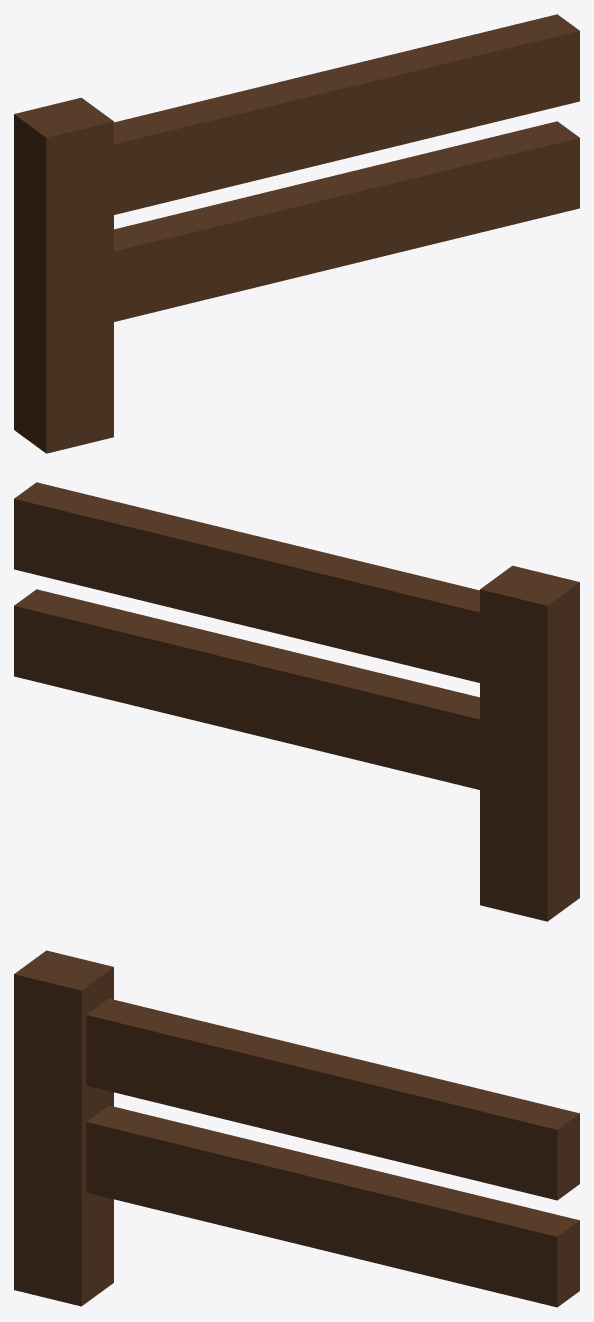
File: fenceRight.fbx
3 views of the same model, one above another, from view 1: azimuth 30°, elevation 25°; view 2: azimuth 150°, elevation 25°; view 3: azimuth 330°, elevation 25° (orthographic).
Visible parts, largest first — view 1: Cube.003, Cube.004, Cube.001; view 2: Cube.003, Cube.004, Cube.001; view 3: Cube.003, Cube.004, Cube.001.
Boxes of the visible parts, bbox=[...] form: Cube.003: bbox=[114, 14, 579, 214]; Cube.004: bbox=[114, 121, 579, 321]; Cube.001: bbox=[14, 97, 113, 453]; Cube.003: bbox=[14, 482, 479, 682]; Cube.004: bbox=[14, 589, 479, 789]; Cube.001: bbox=[480, 565, 579, 921]; Cube.003: bbox=[86, 998, 579, 1200]; Cube.004: bbox=[86, 1105, 579, 1307]; Cube.001: bbox=[14, 950, 113, 1306].
Bounding box in the file's own units: 528 × 296 × 55.16.
